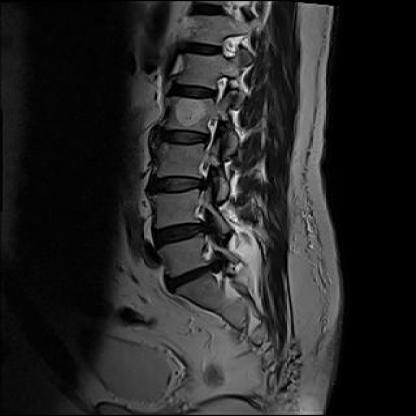Degenerative Disc Diseaserotation: (154, 258, 232, 286), (143, 217, 210, 247), (146, 175, 208, 199)
Disc Bulgerotation: (143, 218, 211, 248), (154, 259, 232, 285), (146, 174, 210, 198)
